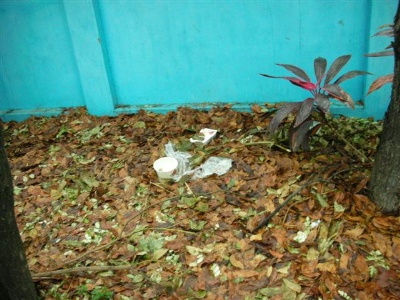bowl: (153, 157, 178, 180)
plastic_bag: (179, 154, 233, 177)
